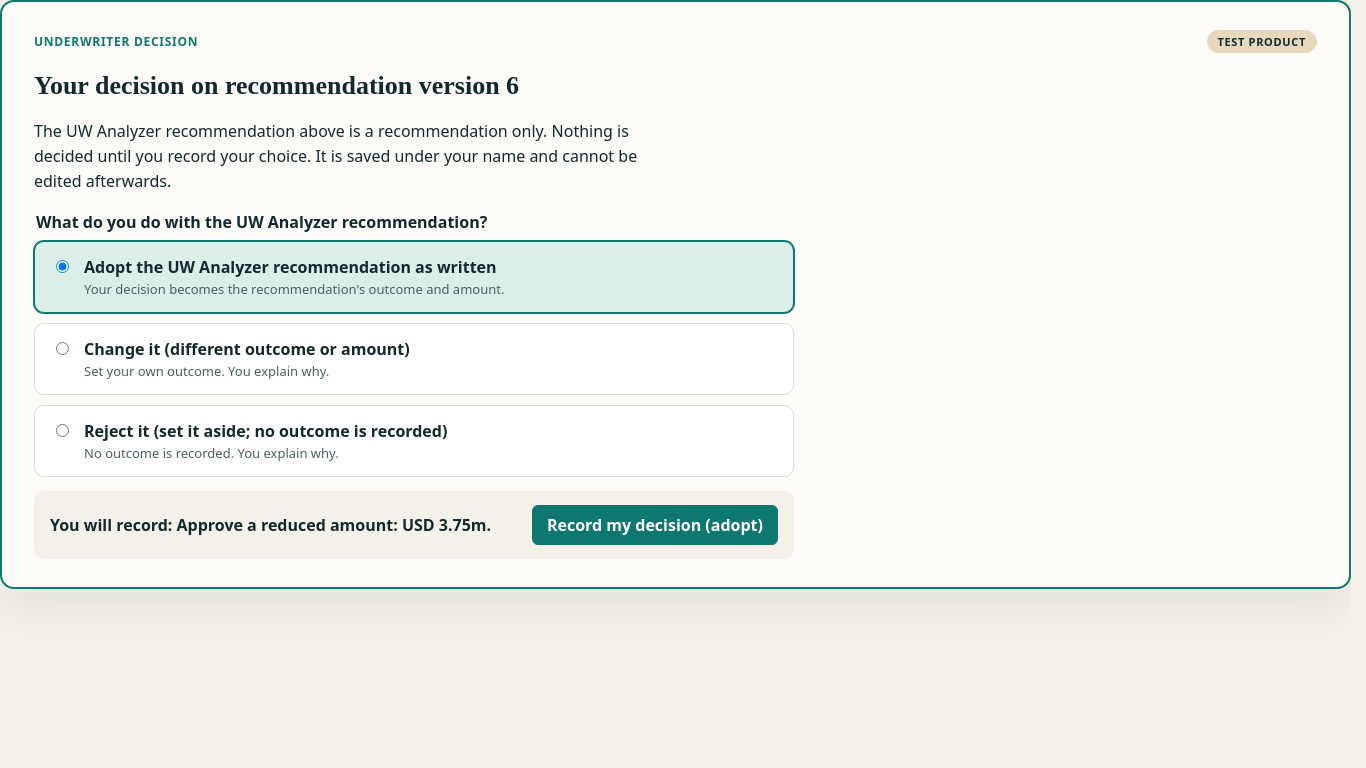
the decision form tells the truth about what it will record › needs a written reason to reject, and says so
Click the radio button labelled "Reject it" at (62, 431), box [56, 424, 69, 437]
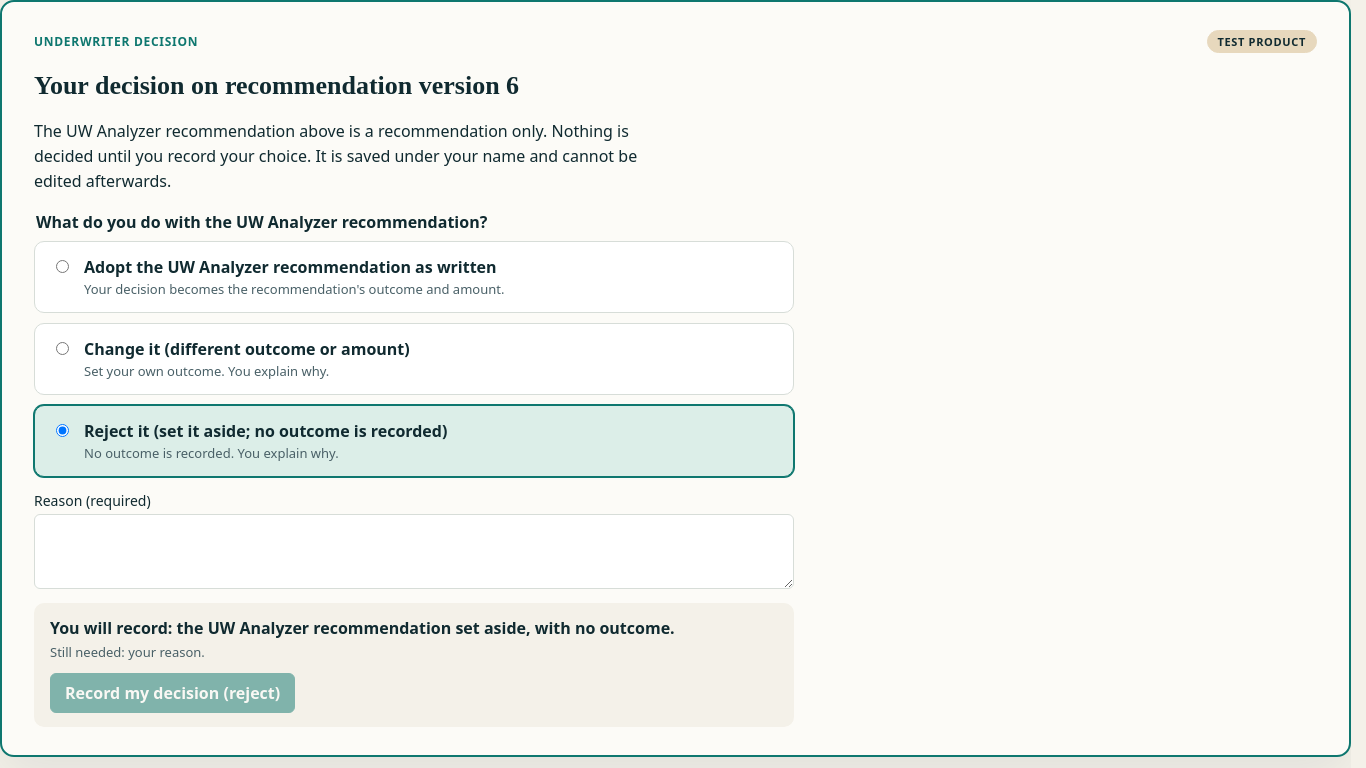
Expected: the text "Still needed: your reason." is shown, [50, 643, 205, 661]
Expected: the button "Record my decision (reject)" is disabled, [50, 673, 295, 713]
Type "Wrong entity." into the text box labelled "Reason (required)" at (414, 552), box [34, 514, 794, 589]
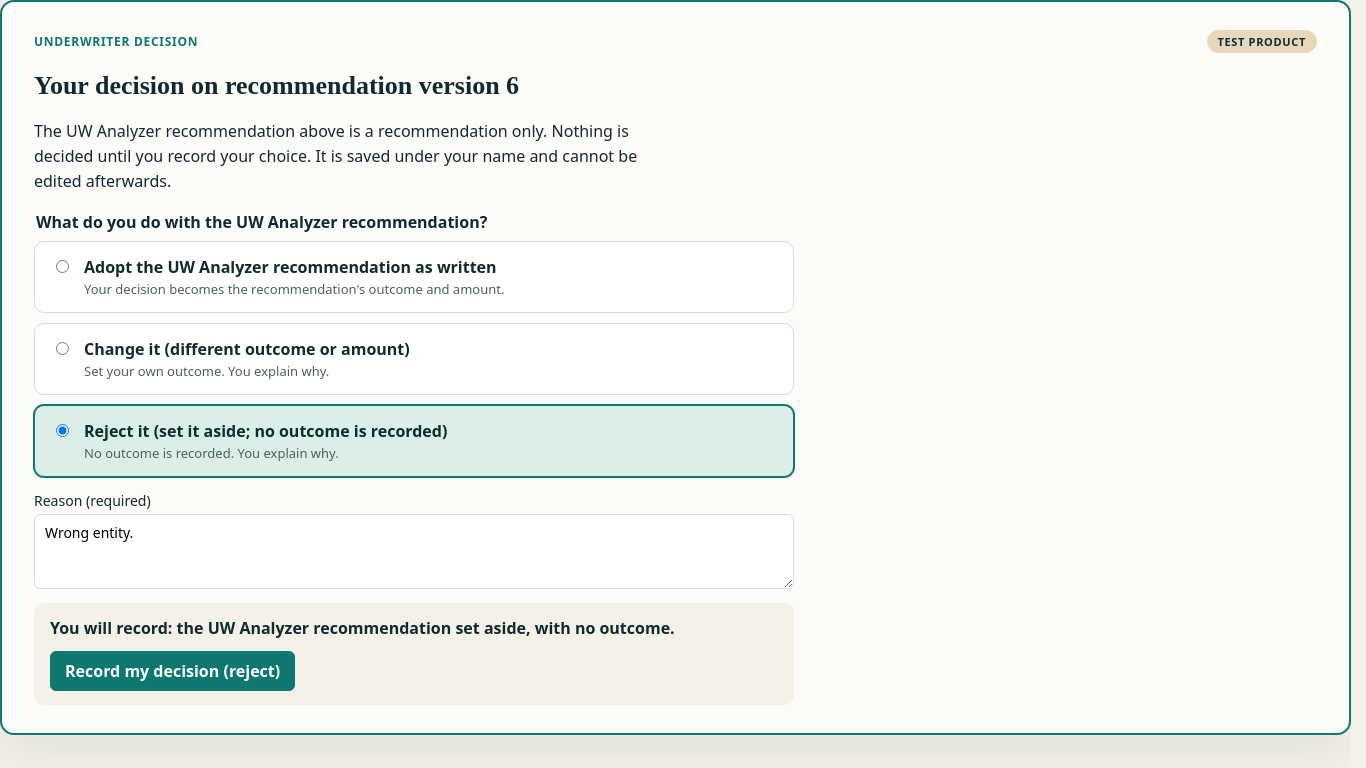
Expected: the button "Record my decision (reject)" is enabled, [50, 651, 295, 691]
